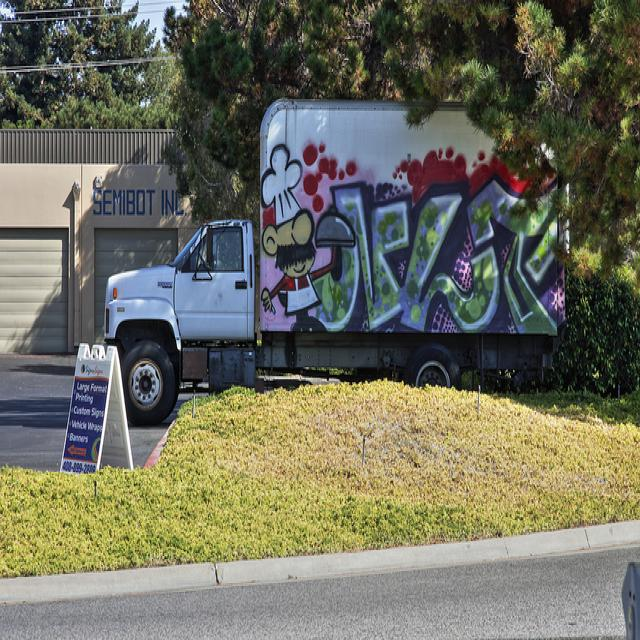Vehicle: (103, 97, 573, 433)
